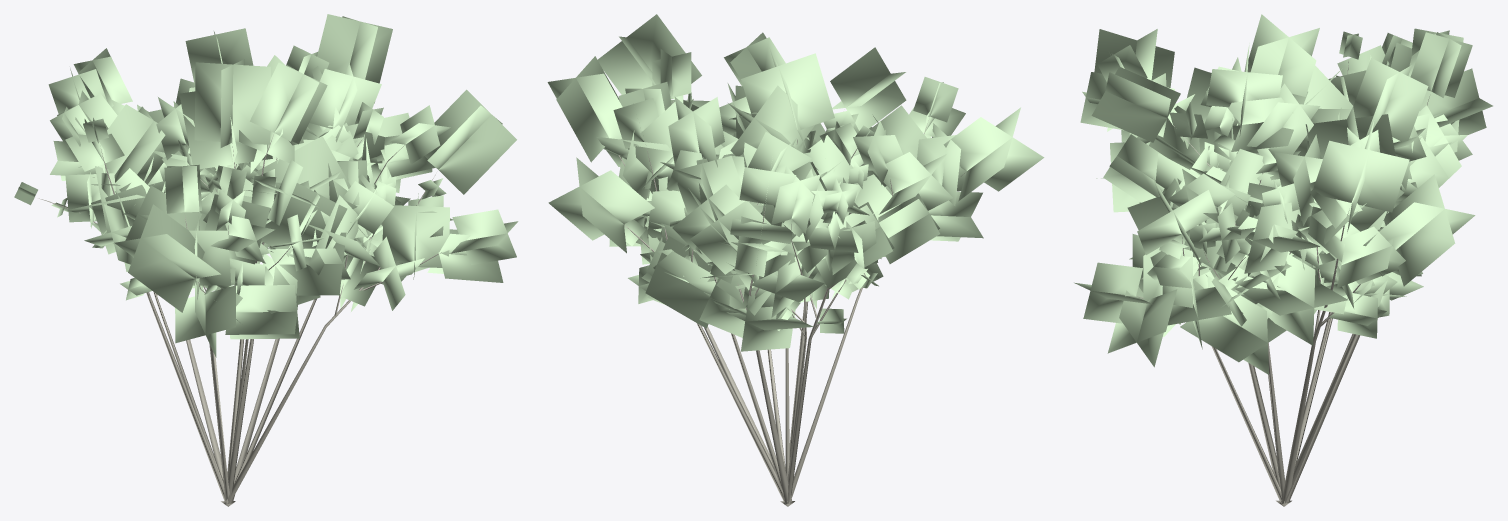
Rendered from bush_2_v0_lod1.glb.
3 views of the same model, side by side, from view 1: azimuth 30°, elevation 25°; view 2: azimuth 150°, elevation 25°; view 3: azimuth 270°, elevation 25° (orthographic). The views are drawn at different scales.
Parts seen in each view (by area): view 1: Leaves, Branches; view 2: Leaves, Branches; view 3: Leaves, Branches.
Boxes of the visible parts, box(x1,y1,x2,y2) form: Leaves: box(14, 14, 518, 357); Branches: box(38, 135, 441, 506); Leaves: box(547, 14, 1044, 351); Branches: box(618, 101, 964, 506); Leaves: box(1074, 14, 1492, 374); Branches: box(1136, 60, 1429, 506).
Size of the model in its own units: 30.35 by 31.42 by 24.92.
